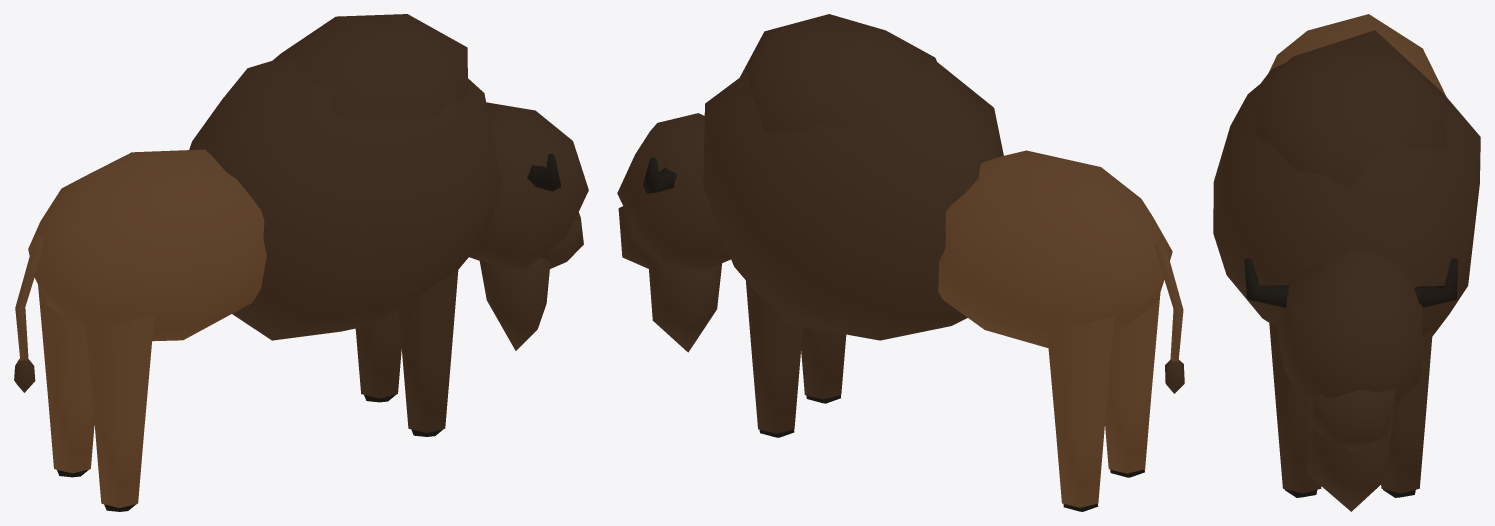
The model's file is Blender_Bison_1.glb.
3 renders of one model, left to right at view 1: azimuth 30°, elevation 25°; view 2: azimuth 150°, elevation 25°; view 3: azimuth 270°, elevation 25°, orthographic. The views are drawn at different scales.
Visible parts, largest first — view 1: Blender_Bison_1; view 2: Blender_Bison_1; view 3: Blender_Bison_1.
Boxes of the visible parts, <box> form: Blender_Bison_1: <box>14,14,588,511</box>; Blender_Bison_1: <box>617,14,1184,511</box>; Blender_Bison_1: <box>1213,14,1480,511</box>.
Size of the model in its own units: 2.76 by 1.87 by 1.09.
